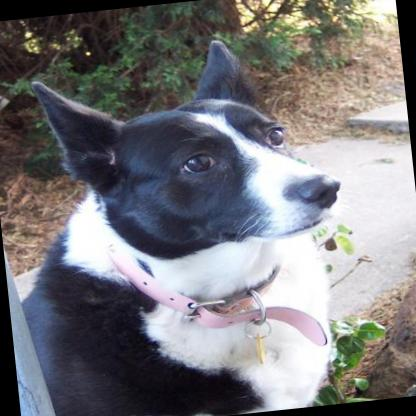kelpie: (0, 29, 362, 416)
